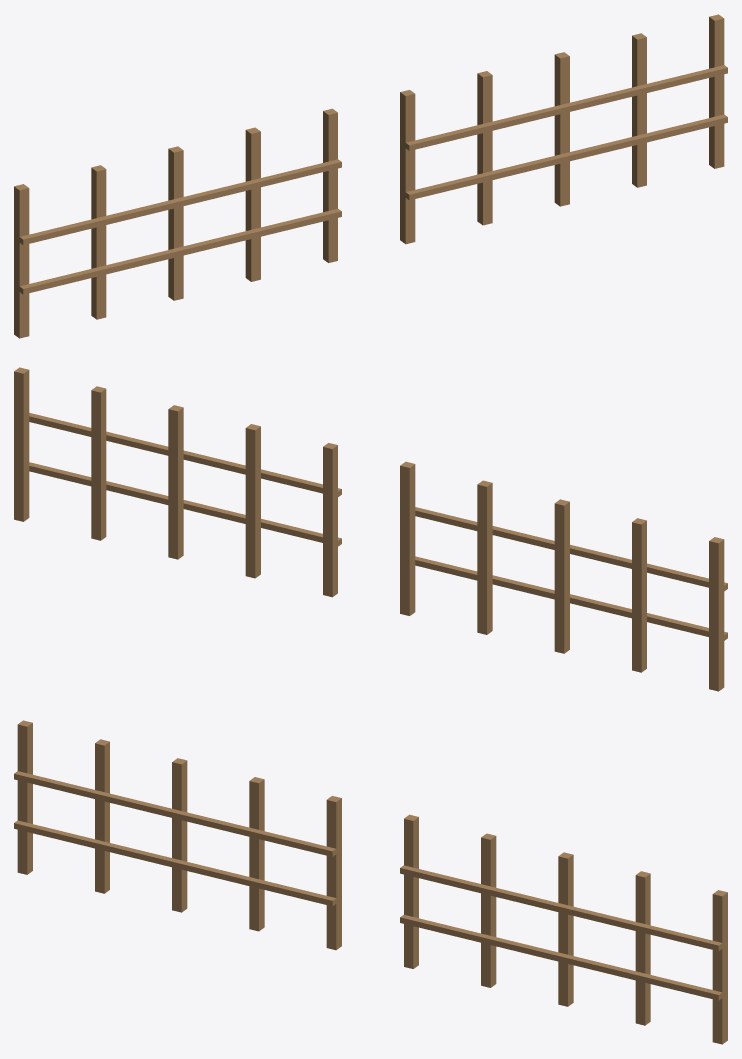
Rendered from assembly.glb.
The picture shows the model from 3 angles, top to bottom: view 1: azimuth 30°, elevation 25°; view 2: azimuth 150°, elevation 25°; view 3: azimuth 330°, elevation 25°; orthographic projection.
Parts seen in each view (by area): view 1: U01_Rail_001, U02_Rail_001, U01_Rail_002, U02_Rail_002, U01_Post_001, U02_Post_001, U02_Post_002, U01_Post_003, U02_Post_003, U01_Post_004, U01_Post_002, U02_Post_005 (+2 smaller); view 2: U02_Rail_002, U02_Rail_001, U01_Rail_002, U01_Rail_001, U01_Post_004, U01_Post_005, U01_Post_003, U02_Post_003, U01_Post_001, U02_Post_002, U02_Post_004, U02_Post_005 (+2 smaller); view 3: U02_Rail_001, U01_Rail_001, U01_Rail_002, U02_Rail_002, U02_Post_005, U01_Post_005, U01_Post_004, U02_Post_003, U01_Post_003, U02_Post_002, U01_Post_001, U02_Post_004 (+2 smaller).
Part boxes in pixels (x1,y1,x2,y2): U01_Rail_001: (19,208,341,294); U02_Rail_001: (405,114,727,200); U01_Rail_002: (19,159,341,245); U02_Rail_002: (405,65,727,150); U01_Post_001: (14,184,29,338); U02_Post_001: (400,90,415,244); U02_Post_002: (477,71,492,225); U01_Post_003: (168,146,183,300); U02_Post_003: (554,52,569,206); U01_Post_004: (245,127,260,281); U01_Post_002: (91,165,106,319); U02_Post_005: (709,14,724,168); U02_Rail_002: (29,413,341,496); U02_Rail_001: (29,462,341,546); U01_Rail_002: (415,507,727,591); U01_Rail_001: (415,556,727,640); U01_Post_004: (477,480,492,634); U01_Post_005: (400,461,415,615); U01_Post_003: (554,499,569,653); U02_Post_003: (168,405,183,559); U01_Post_001: (709,537,724,691); U02_Post_002: (245,424,260,578); U02_Post_004: (91,386,106,540); U02_Post_005: (14,367,29,521); U02_Rail_001: (400,914,722,1000); U01_Rail_001: (14,820,336,906); U01_Rail_002: (14,771,336,856); U02_Rail_002: (400,865,722,951); U02_Post_005: (712,890,727,1044); U01_Post_005: (326,796,341,950); U01_Post_004: (249,777,264,931); U02_Post_003: (558,852,573,1006); U01_Post_003: (172,758,187,912); U02_Post_002: (481,833,496,987); U01_Post_001: (17,720,32,874); U02_Post_004: (635,871,650,1025).
Bounding box in the file's own units: 10.95 × 2.2 × 0.249.
